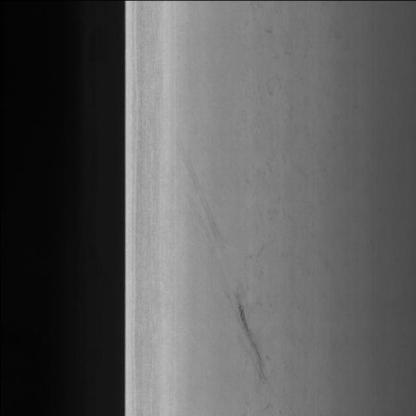silk_spot: (245, 21, 335, 255)
water_spot: (227, 280, 277, 392)
